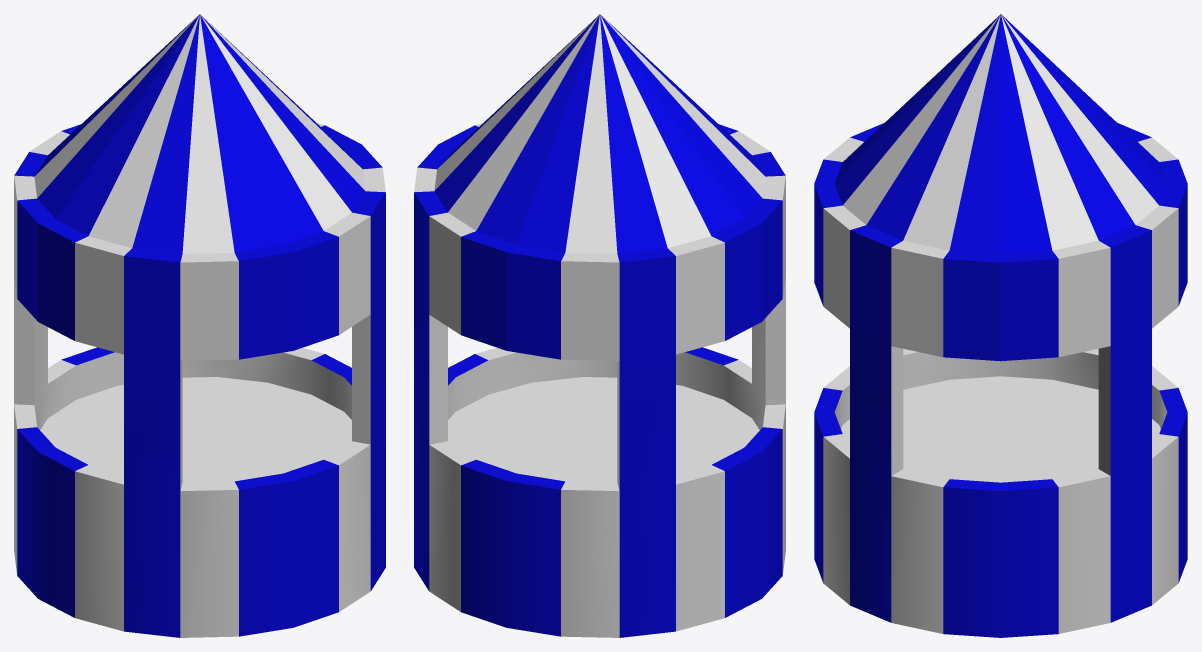
The model's file is stand2.fbx.
The picture shows the model from 3 angles, left to right: view 1: azimuth 30°, elevation 25°; view 2: azimuth 150°, elevation 25°; view 3: azimuth 270°, elevation 25°; orthographic projection.
Parts seen in each view (by area): view 1: stall, roof; view 2: stall, roof; view 3: stall, roof.
Part boxes in pixels (box(x1,y1,x2,y2)): stall: box(14, 275, 385, 637); roof: box(14, 14, 385, 360); stall: box(414, 275, 785, 637); roof: box(414, 14, 785, 360); stall: box(814, 329, 1187, 637); roof: box(814, 14, 1187, 361).
Bounding box in the file's own units: 4.45 × 7.16 × 4.45.
